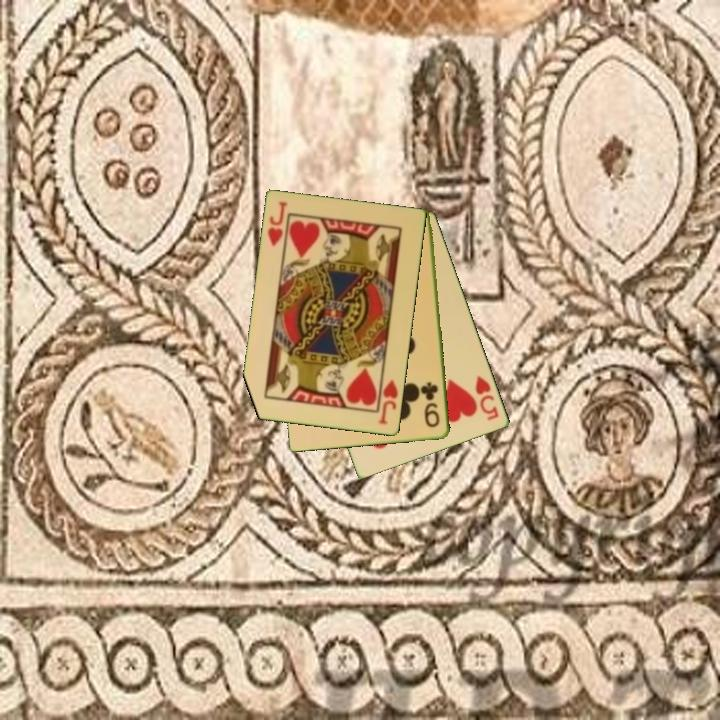5h: (472, 372, 502, 424)
9c: (420, 379, 443, 431)
Jh: (264, 199, 291, 249), (375, 377, 401, 427)
